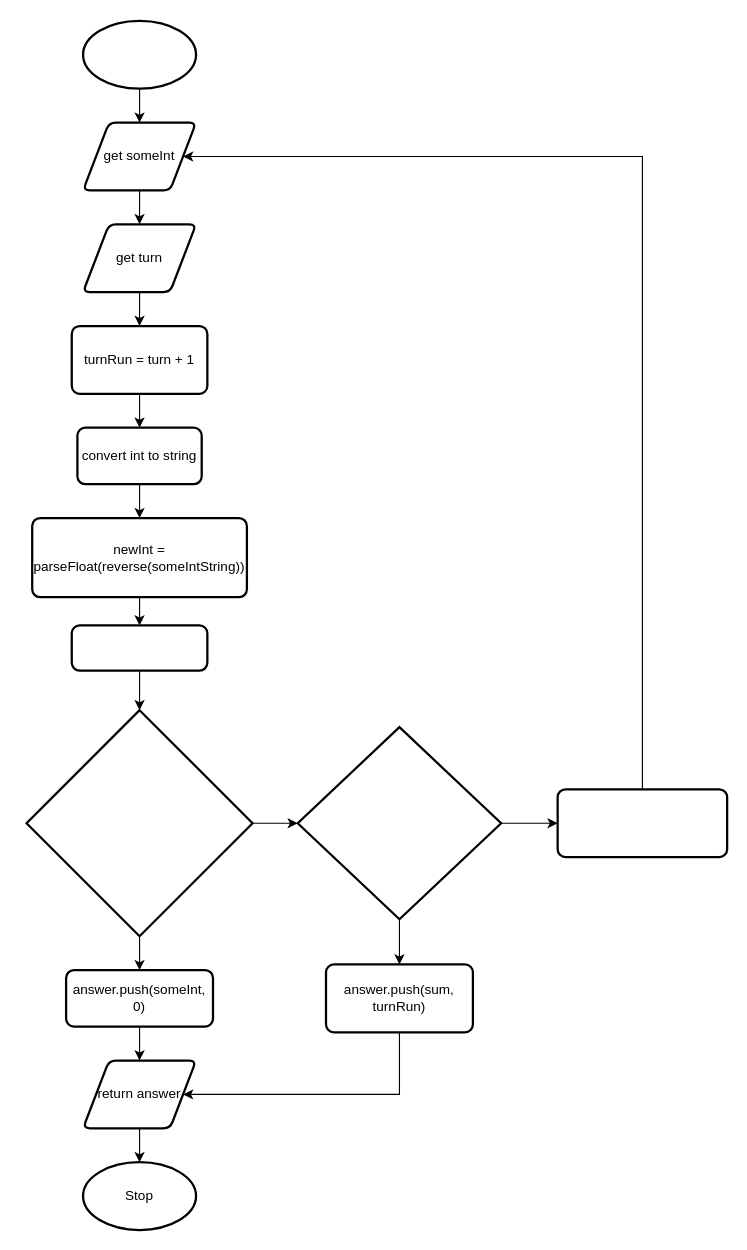
This 747x1250 diagram has some shape labels left out. The shapes that lost their labels are listed below. From the top down, each one's box as (x1, y1, x2, y2) in pixels, then its label:
(81, 19, 197, 89): Start
(70, 624, 208, 671): sum = someInt + newInt
(25, 709, 253, 937): if (someInt === parseFloat(reverse(someInt.toString())))
(296, 725, 502, 920): if (sum === parseFloat(reverse(sum.toString())))
(556, 788, 728, 858): return palindrome(sum, turnRun)
